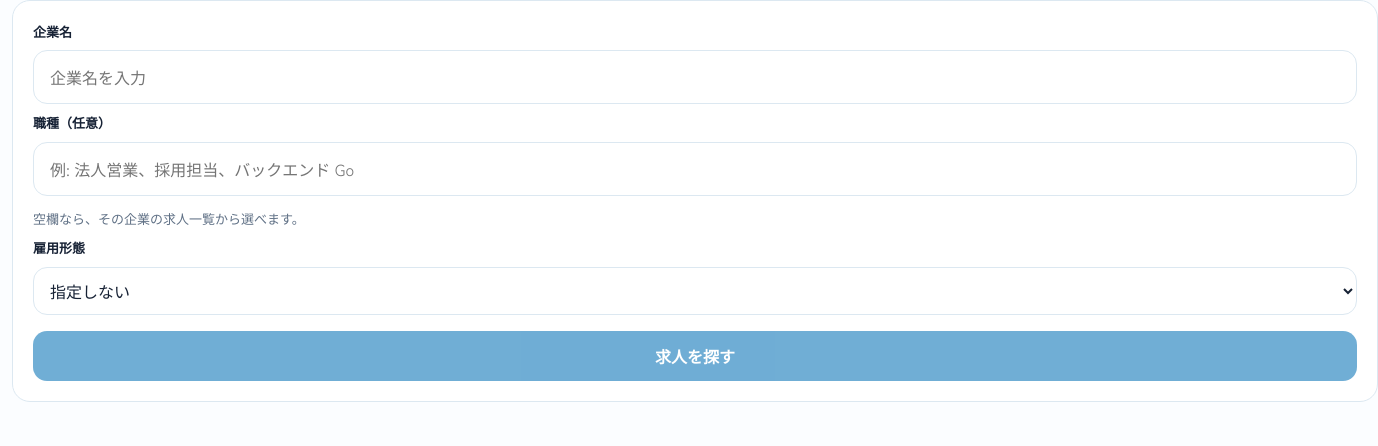
Test: too many searches explain the limit and keep URL input available
Type "サンプル" into the field labelled "企業名" at x=695, y=77, box [33,50,1357,104]
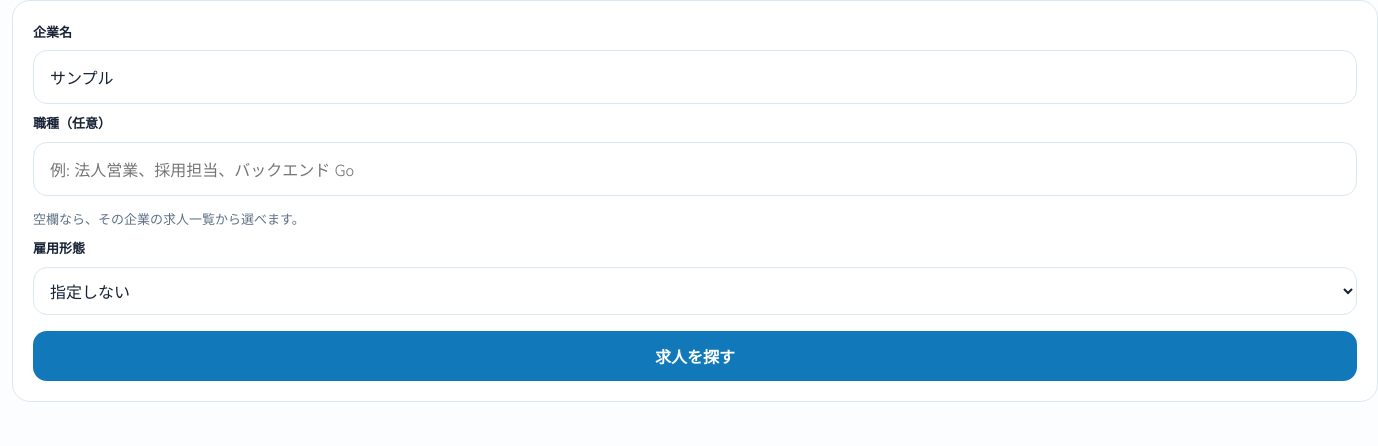
Click the button "求人を探す" at x=695, y=356, box [33,331,1357,381]
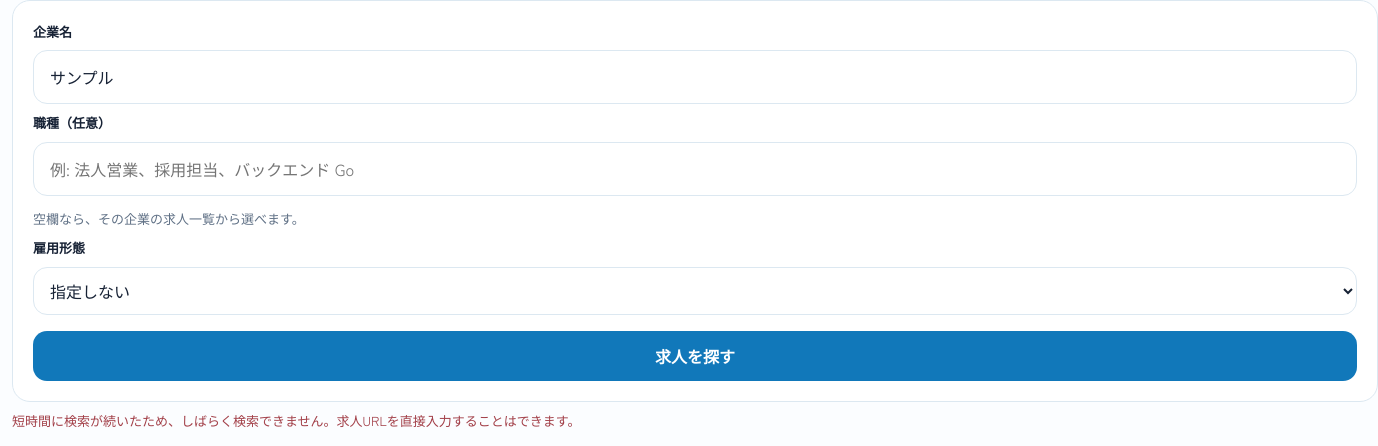
Expected: the message shows "求人URLを直接入力", [12,411,580,430]
